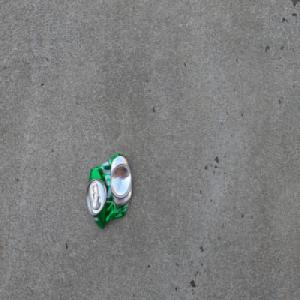SodaCan: (85, 152, 132, 229)
